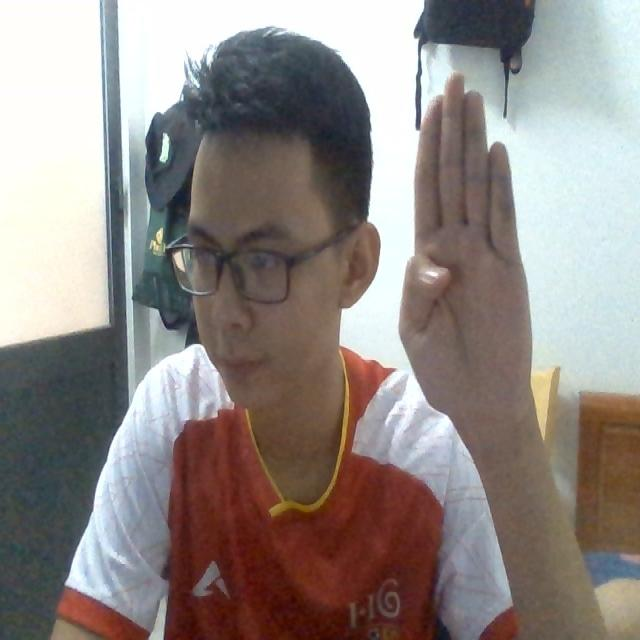B: (386, 68, 549, 449)
